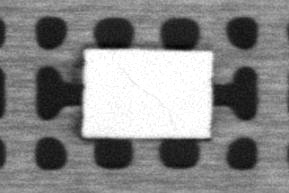DIE_CRACK: (119, 64, 164, 106)
